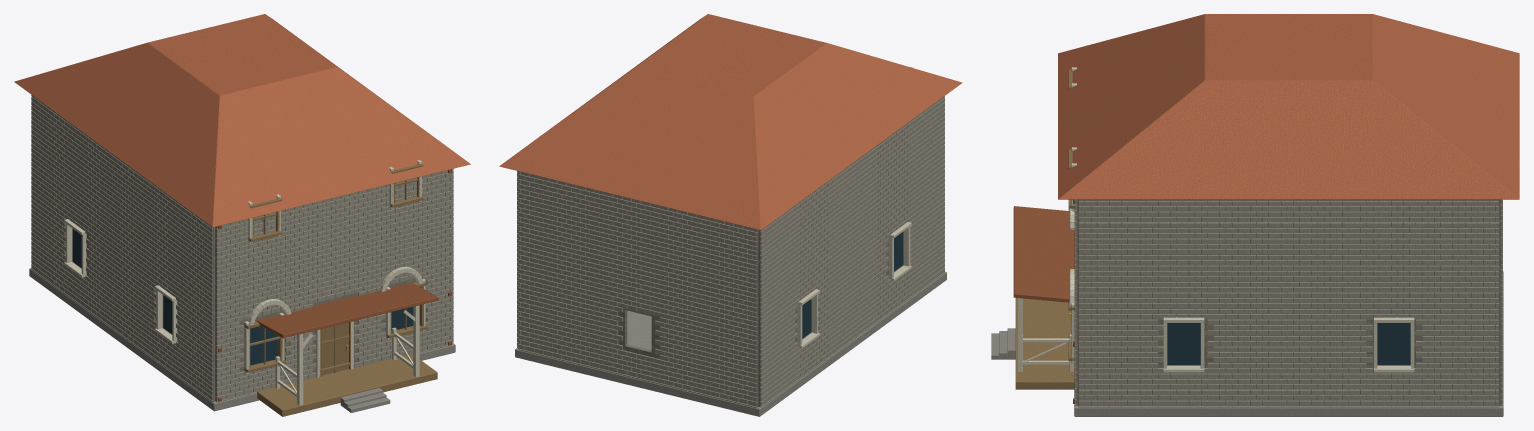
Rendered from WINNERY2_lod0.glb.
3 views of the same model, side by side, from view 1: azimuth 30°, elevation 25°; view 2: azimuth 150°, elevation 25°; view 3: azimuth 270°, elevation 25° (orthographic). The views are drawn at different scales.
Visible parts, largest first — view 1: WINNERY2_LOD0; view 2: WINNERY2_LOD0; view 3: WINNERY2_LOD0.
Part boxes in pixels (x1,y1,x2,y2): WINNERY2_LOD0: (14, 14, 470, 416); WINNERY2_LOD0: (499, 14, 962, 416); WINNERY2_LOD0: (991, 14, 1519, 416).
Bounding box in the file's own units: 9.88 × 9.5 × 15.09.
Materials: 12 (9 with a texture image).
